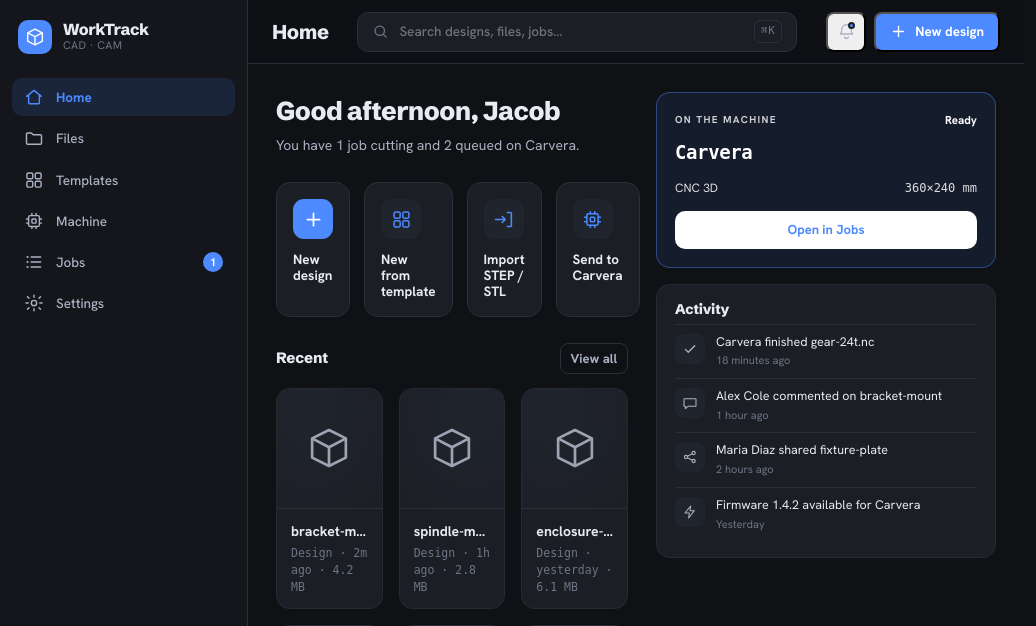
Test: HomeShell — interactive (happy-dom) › switches the content screen when a sidebar nav item is clicked
The image size is (1036, 626).
# Home → Files: greeting gone, Files screen shown, nav marks Files active.
Click the button "Files".
click(124, 138)  # box [12,119,235,158]
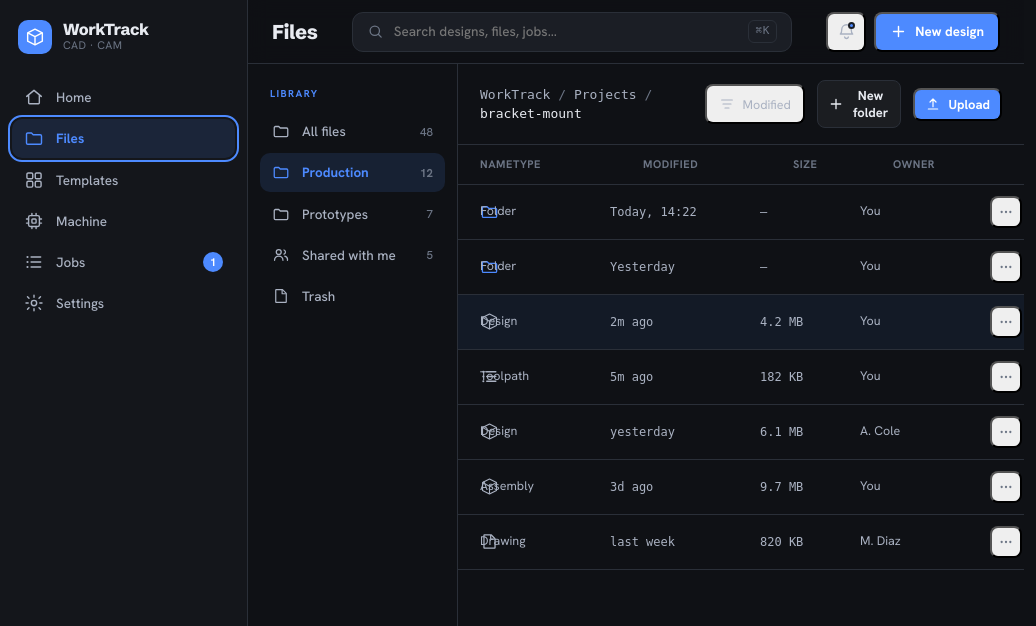
Expected: the heading "Good afternoon, Jacob" is gone
# Files → Home again.
Click the button "Home".
click(124, 97)  # box [12,78,235,116]
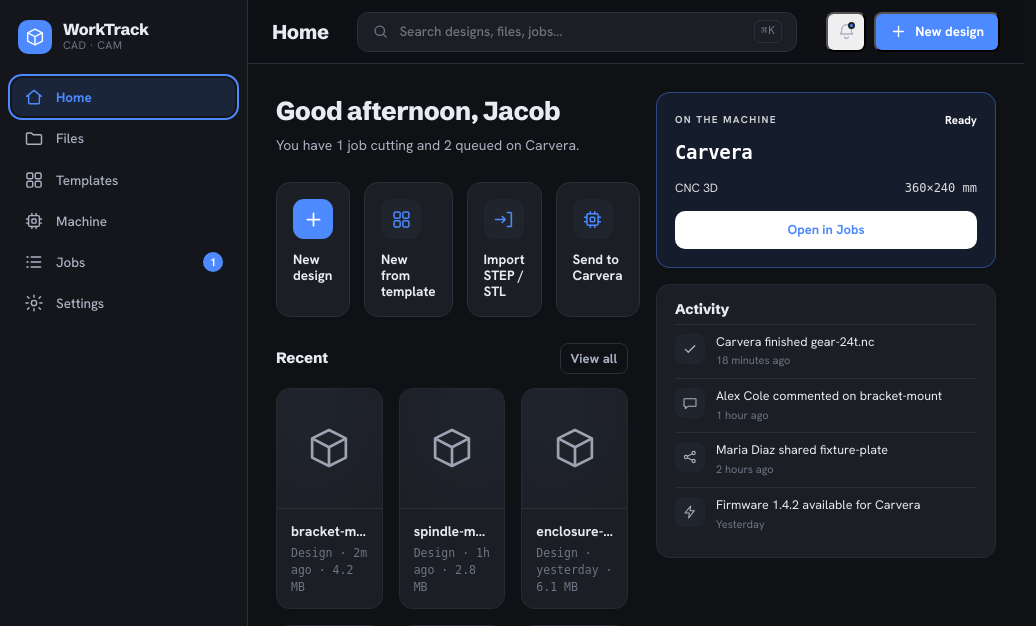
Expected: the heading "Good afternoon, Jacob" is shown, [276,95,560,127]
